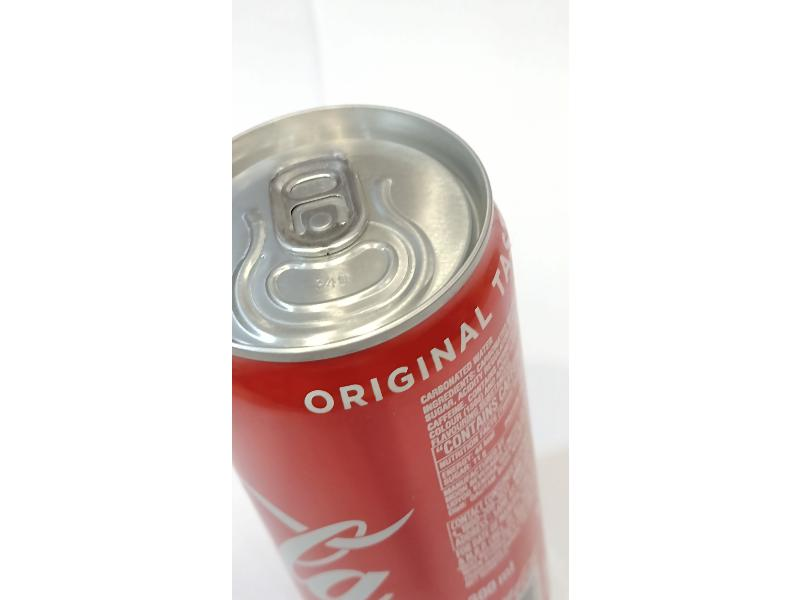can: (223, 96, 558, 597)
